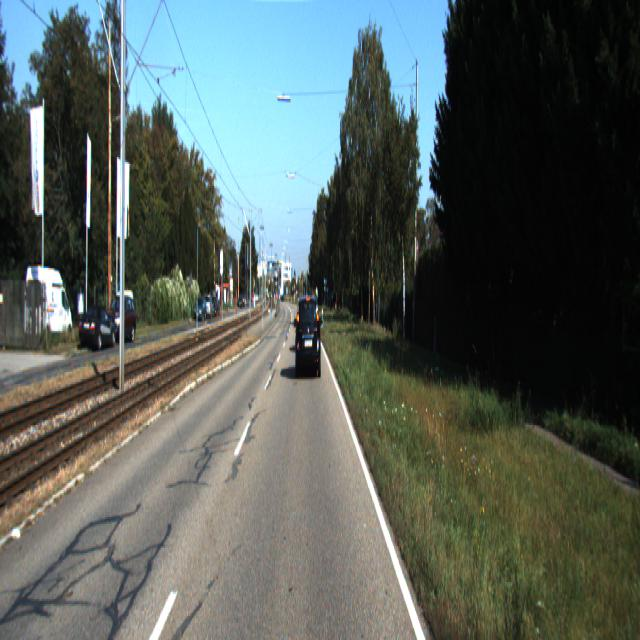Car: (24, 265, 74, 349), (296, 293, 322, 378), (79, 305, 118, 354), (105, 295, 137, 345)
